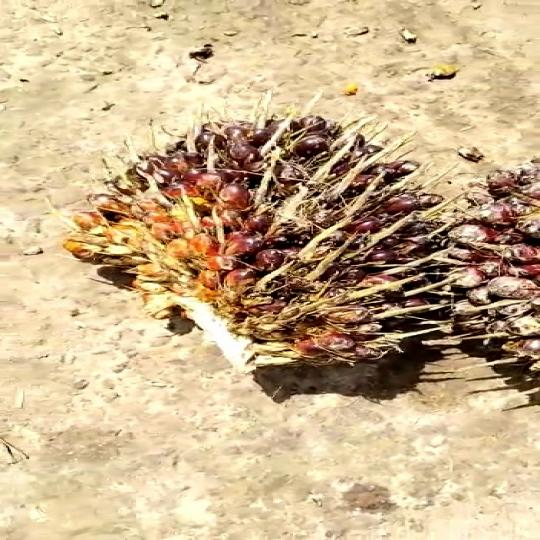kurang masak: (81, 114, 467, 395)
